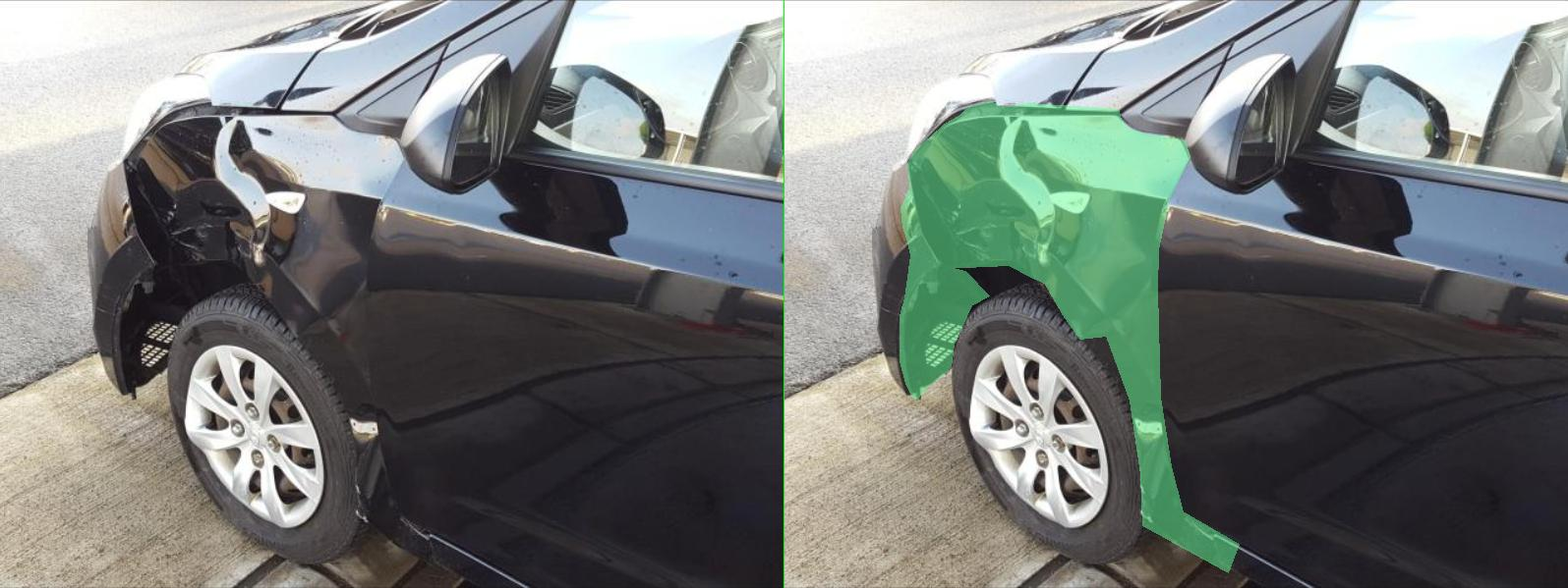Broken part: (246, 101, 909, 572), (230, 189, 409, 400)
